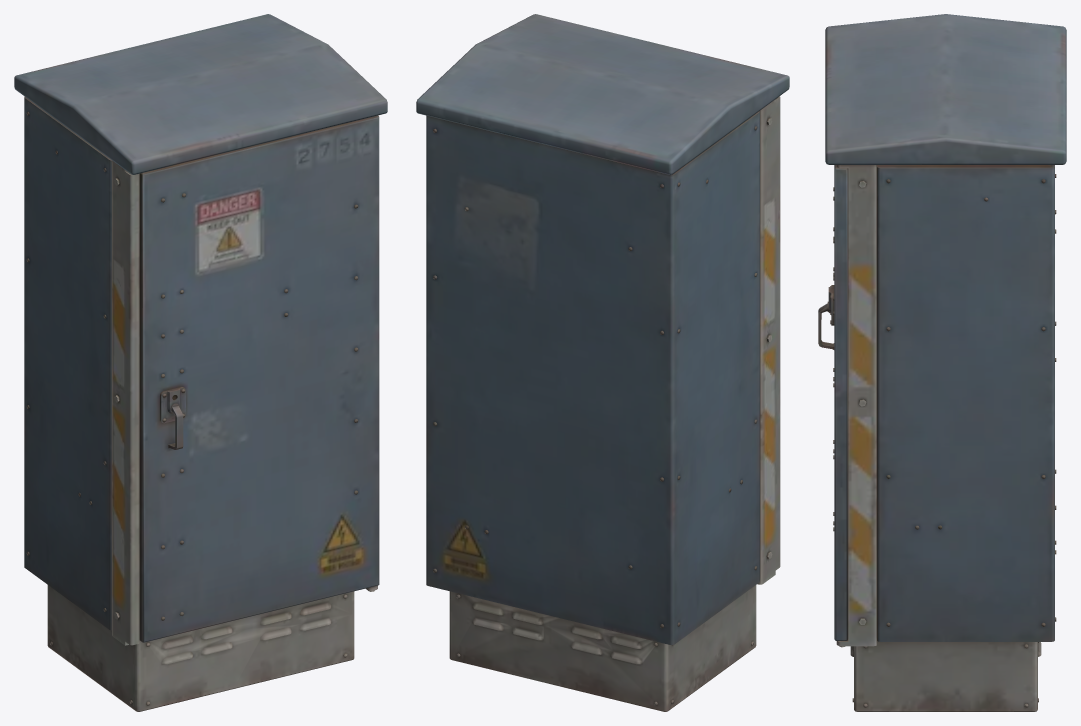
File: utility_box_01.glb
The picture shows the model from 3 angles, left to right: view 1: azimuth 30°, elevation 25°; view 2: azimuth 150°, elevation 25°; view 3: azimuth 270°, elevation 25°; orthographic projection.
Parts seen in each view (by area): view 1: utility_box_01_box; view 2: utility_box_01_box; view 3: utility_box_01_box.
Boxes of the visible parts, <box> form: utility_box_01_box: <box>14,14,387,711</box>; utility_box_01_box: <box>416,14,789,711</box>; utility_box_01_box: <box>818,14,1066,711</box>.
Size of the model in its own units: 0.52 by 1.12 by 0.4319.
1 material, 1 textured.
